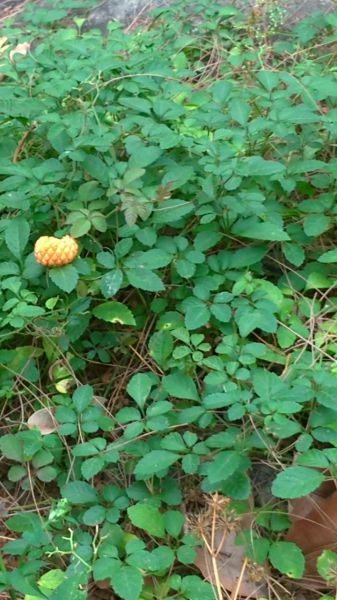eggs: (30, 232, 85, 271)
